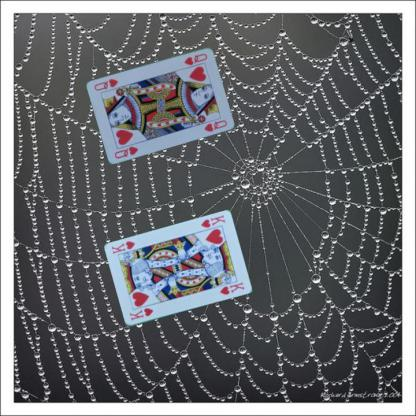Kh: (198, 212, 227, 229), (127, 306, 154, 322)
Qh: (112, 144, 140, 160), (182, 51, 209, 66)
